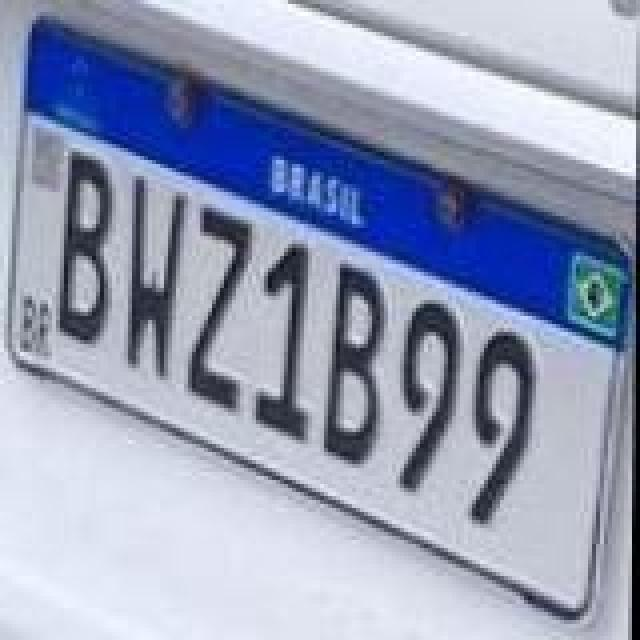1: (324, 258, 396, 470), (250, 242, 318, 446)
9: (468, 334, 544, 530), (396, 294, 468, 490)
B: (58, 150, 122, 346)
W: (122, 174, 190, 386)
Z: (188, 206, 260, 418)
